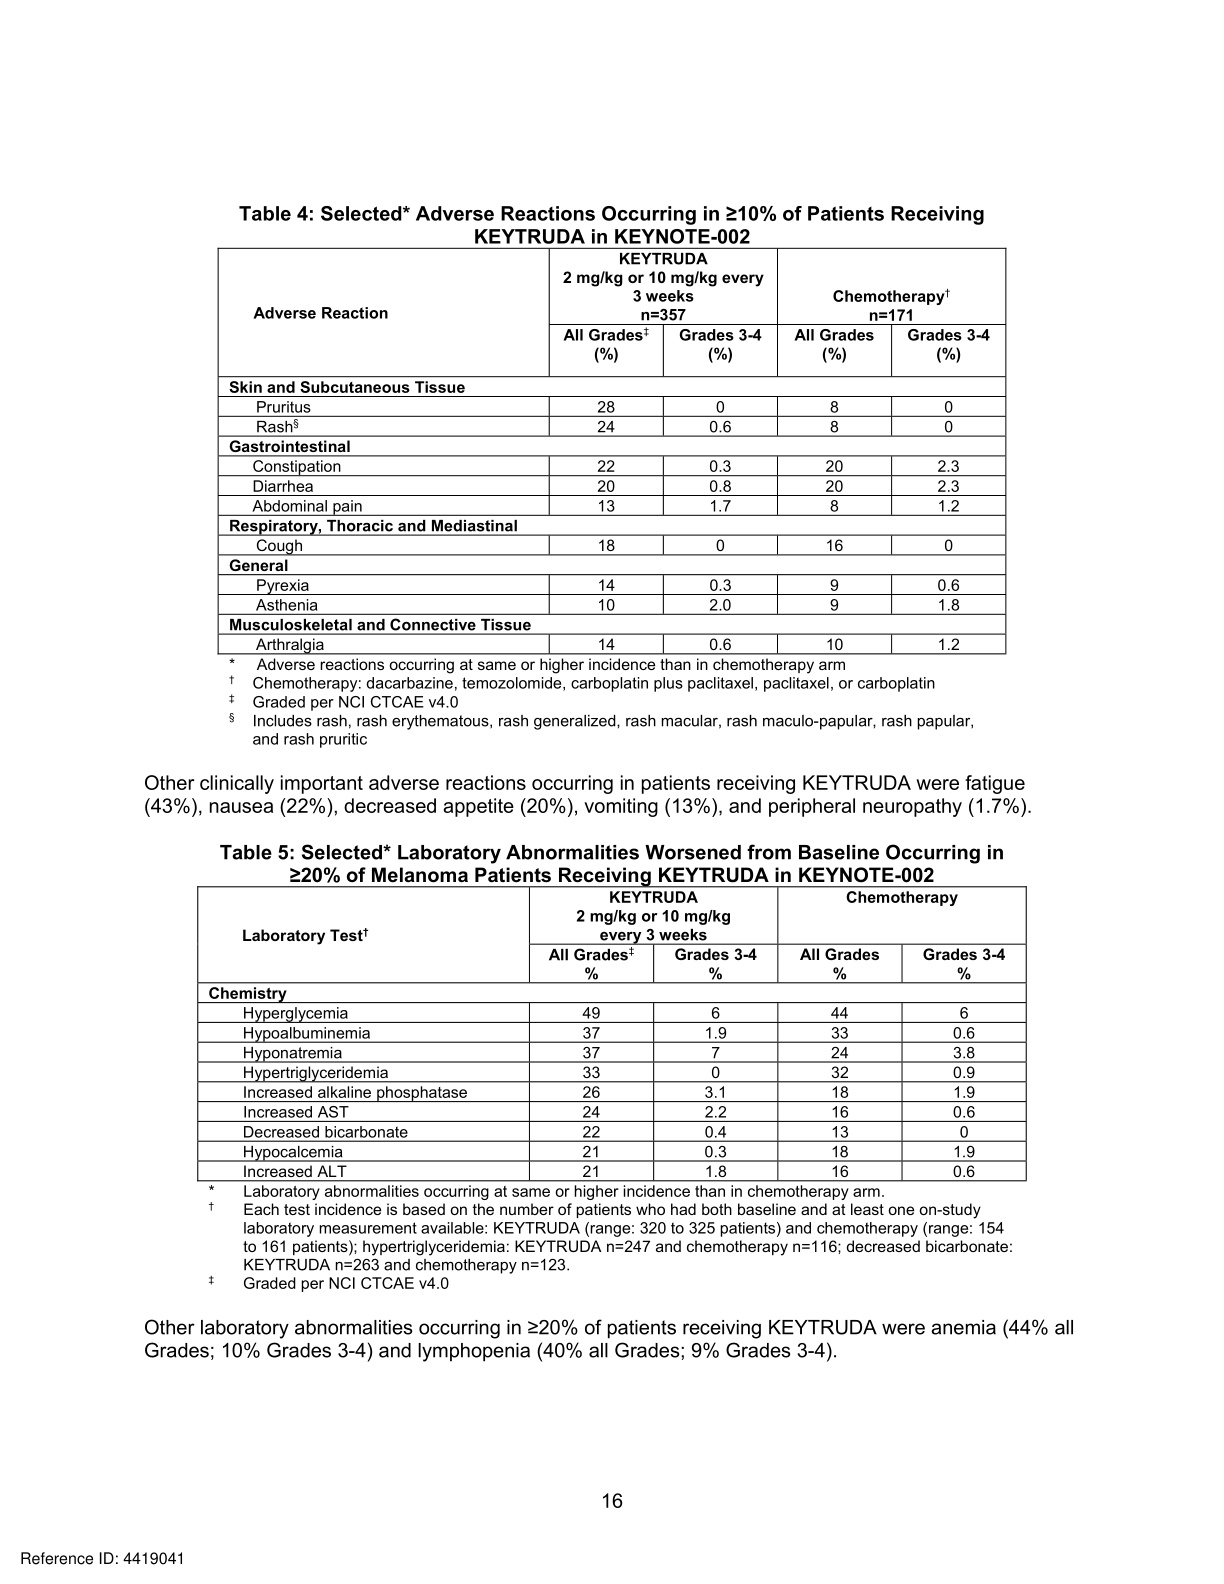merged_cells: (217, 247, 1007, 654), (197, 886, 1027, 1182)
